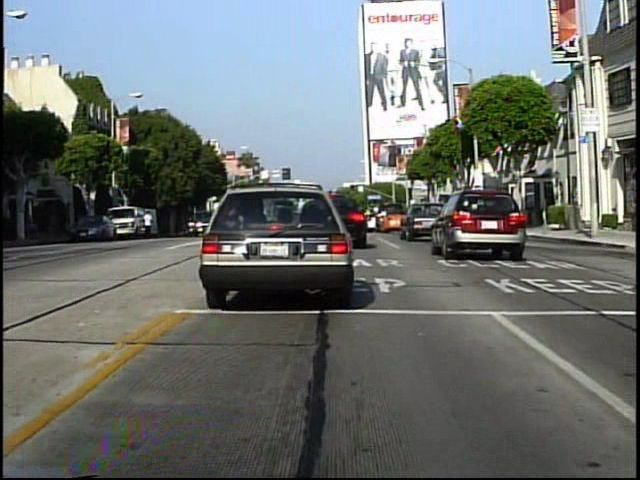person: (143, 208, 156, 243)
